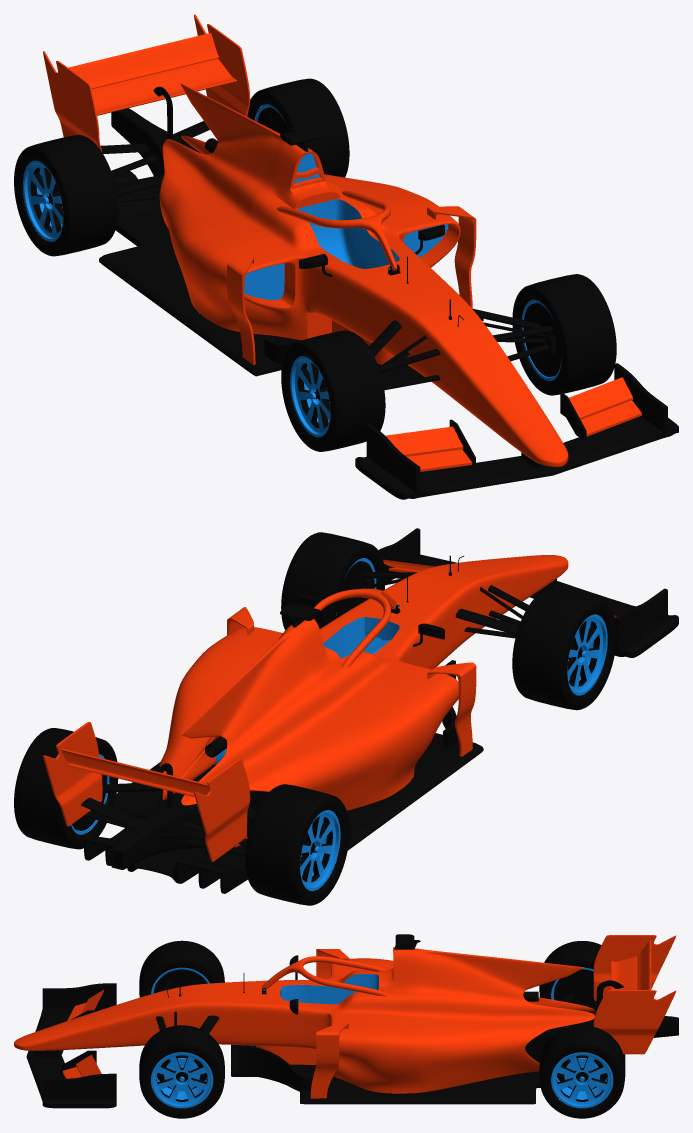
The model's file is Women_accessory_McLaren_px68_py15_pz-30_s0d3_5000.c84121ab.glb.
3 views of the same model, one above another, from view 1: azimuth 30°, elevation 25°; view 2: azimuth 150°, elevation 25°; view 3: azimuth 270°, elevation 25° (orthographic). The views are drawn at different scales.
Visible parts, largest first — view 1: _gltfNode_0, _gltfNode_3, _gltfNode_13, _gltfNode_16, _gltfNode_4, _gltfNode_2, _gltfNode_10, _gltfNode_1, _gltfNode_14, _gltfNode_17; view 2: _gltfNode_0, _gltfNode_3, _gltfNode_16, _gltfNode_13, _gltfNode_4, _gltfNode_17, _gltfNode_14, _gltfNode_2, _gltfNode_10; view 3: _gltfNode_0, _gltfNode_3, _gltfNode_13, _gltfNode_4, _gltfNode_16, _gltfNode_10, _gltfNode_14, _gltfNode_17, _gltfNode_2, _gltfNode_9.
Part boxes in pixels (x1=…): _gltfNode_0: x1=43, y1=14, x2=641, y2=471; _gltfNode_3: x1=99, y1=86, x2=553, y2=468; _gltfNode_13: x1=281, y1=274, x2=616, y2=451; _gltfNode_16: x1=14, y1=78, x2=349, y2=256; _gltfNode_4: x1=355, y1=363, x2=678, y2=499; _gltfNode_2: x1=298, y1=199, x2=399, y2=268; _gltfNode_10: x1=47, y1=107, x2=561, y2=401; _gltfNode_1: x1=244, y1=153, x2=448, y2=300; _gltfNode_14: x1=290, y1=299, x2=561, y2=437; _gltfNode_17: x1=23, y1=104, x2=284, y2=241; _gltfNode_0: x1=43, y1=555, x2=616, y2=861; _gltfNode_3: x1=81, y1=555, x2=556, y2=893; _gltfNode_16: x1=14, y1=728, x2=349, y2=905; _gltfNode_13: x1=281, y1=532, x2=616, y2=710; _gltfNode_4: x1=378, y1=528, x2=678, y2=657; _gltfNode_17: x1=71, y1=754, x2=340, y2=890; _gltfNode_14: x1=336, y1=558, x2=607, y2=695; _gltfNode_2: x1=323, y1=617, x2=399, y2=658; _gltfNode_10: x1=72, y1=561, x2=583, y2=855; _gltfNode_0: x1=14, y1=935, x2=676, y2=1098; _gltfNode_3: x1=35, y1=934, x2=678, y2=1104; _gltfNode_13: x1=139, y1=940, x2=224, y2=1118; _gltfNode_4: x1=26, y1=983, x2=116, y2=1108; _gltfNode_16: x1=539, y1=941, x2=625, y2=1118; _gltfNode_10: x1=153, y1=969, x2=607, y2=1089; _gltfNode_14: x1=151, y1=967, x2=213, y2=1108; _gltfNode_17: x1=551, y1=967, x2=613, y2=1108; _gltfNode_2: x1=280, y1=974, x2=378, y2=1004; _gltfNode_9: x1=164, y1=1058, x2=600, y2=1091.
Bounding box in the file's own units: 170 × 99.24 × 463.
